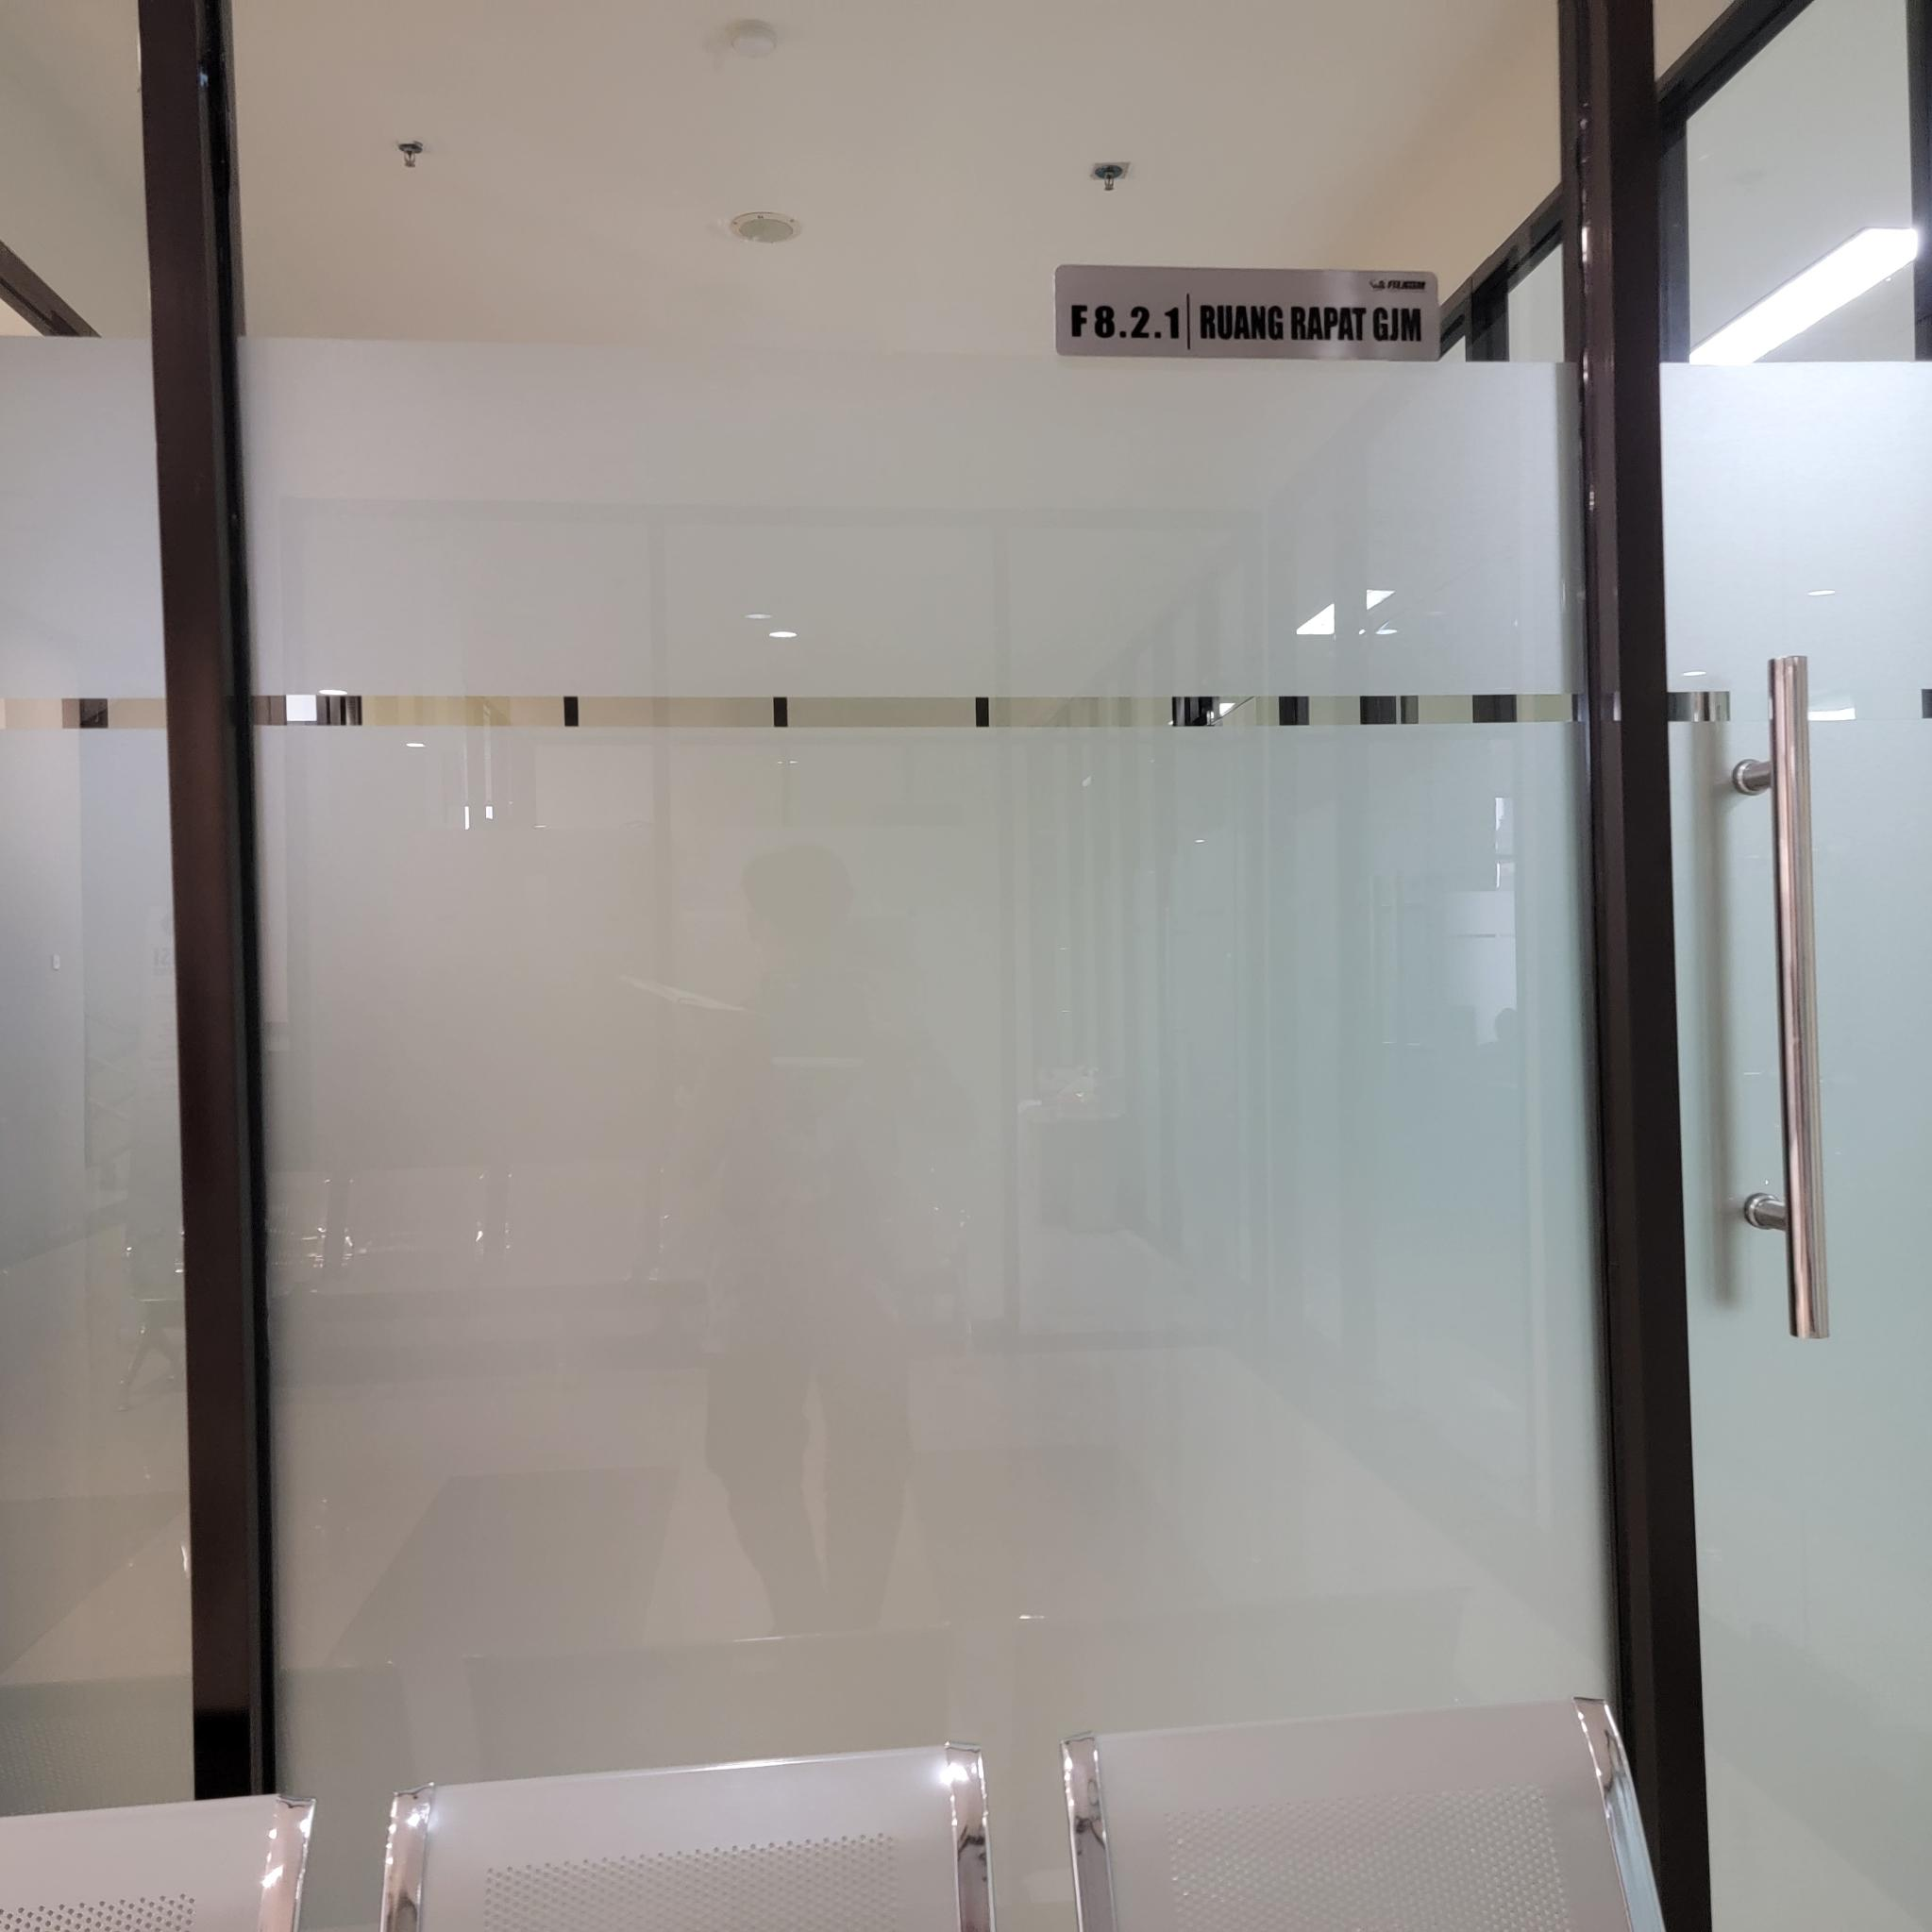plate: (1049, 262, 1442, 361)
